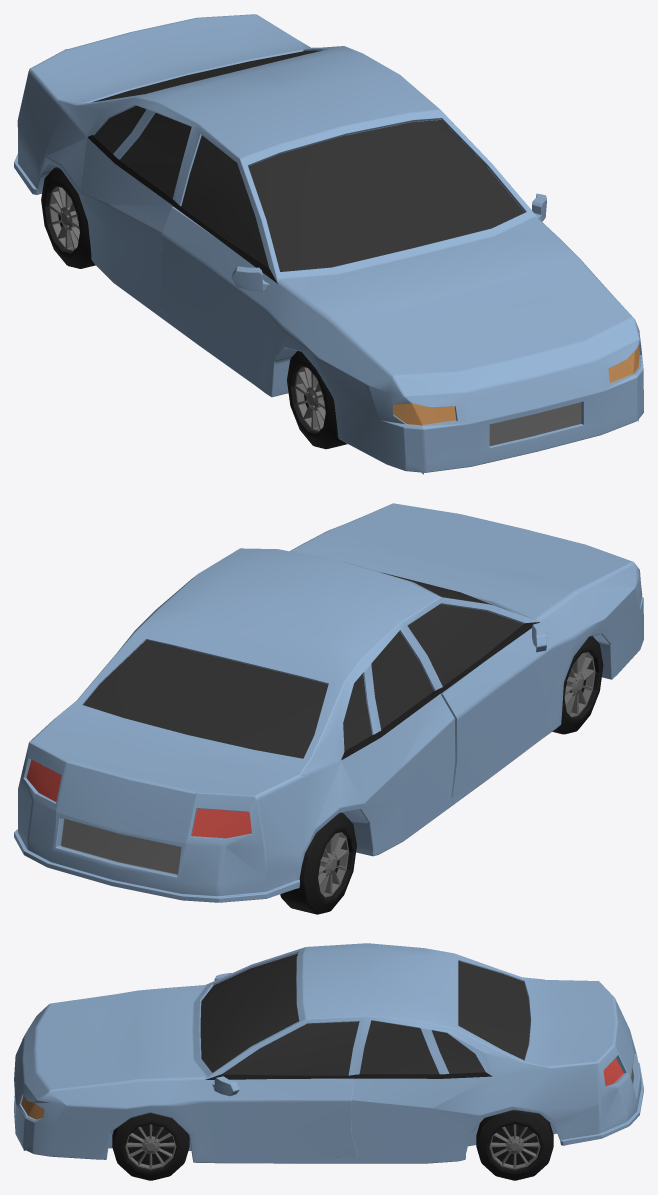
The model's file is sedan.glb.
3 renders of one model, top to bottom at view 1: azimuth 30°, elevation 25°; view 2: azimuth 150°, elevation 25°; view 3: azimuth 270°, elevation 25°, orthographic. The views are drawn at different scales.
Visible parts, largest first — view 1: NormalCar1_Cube.012, NormalCar1_BackWheels_Cube.011, NormalCar1_FrontRightWheel_Cube.008; view 2: NormalCar1_Cube.012, NormalCar1_BackWheels_Cube.011, NormalCar1_FrontRightWheel_Cube.008; view 3: NormalCar1_Cube.012, NormalCar1_BackWheels_Cube.011, NormalCar1_FrontLeftWheel_Cube.007.
Part boxes in pixels (x1,y1,x2,y2): NormalCar1_Cube.012: [14, 14, 643, 474]; NormalCar1_BackWheels_Cube.011: [41, 167, 95, 268]; NormalCar1_FrontRightWheel_Cube.008: [287, 351, 347, 449]; NormalCar1_Cube.012: [14, 503, 643, 902]; NormalCar1_BackWheels_Cube.011: [280, 813, 356, 914]; NormalCar1_FrontRightWheel_Cube.008: [552, 636, 603, 734]; NormalCar1_Cube.012: [14, 943, 643, 1163]; NormalCar1_BackWheels_Cube.011: [476, 1110, 553, 1180]; NormalCar1_FrontLeftWheel_Cube.007: [112, 1113, 189, 1180].
Size of the model in its own units: 1.8 by 1.17 by 4.22.
